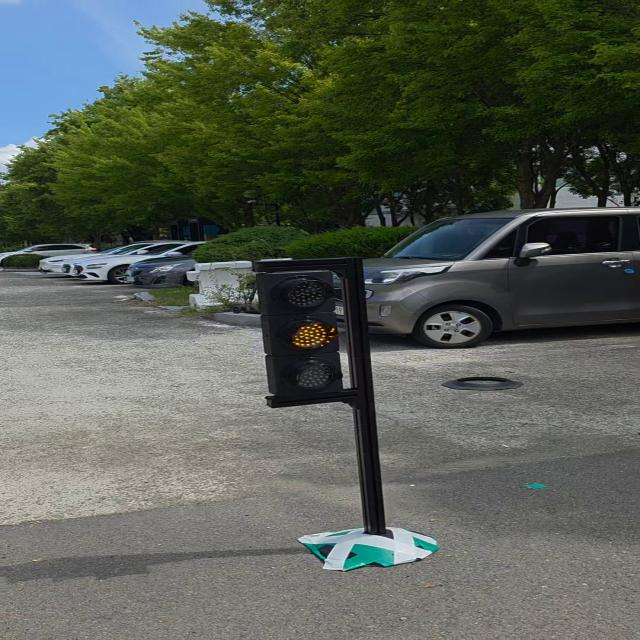yellow: (252, 258, 355, 406)
